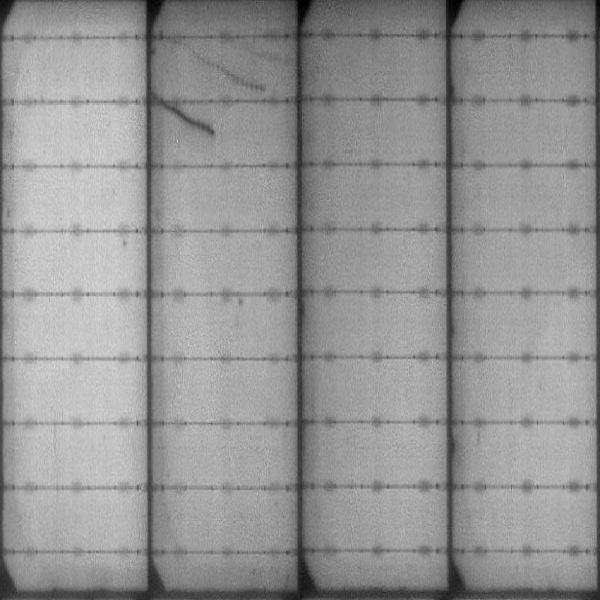scratch: (160, 39, 273, 89), (149, 93, 217, 139)
